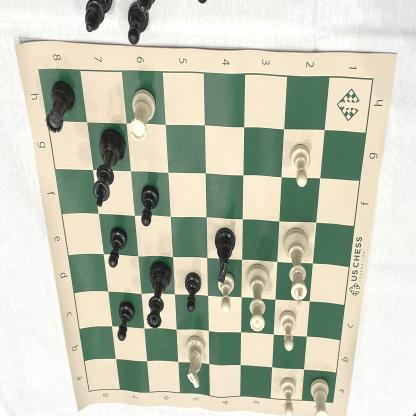black-king: (90, 126, 126, 208)
black-knight: (212, 225, 238, 282)
black-pawn: (106, 226, 129, 270), (139, 184, 160, 229), (182, 270, 203, 314), (116, 300, 135, 343)
black-queen: (144, 258, 173, 332)
black-rook: (46, 80, 74, 138)
white-king: (282, 228, 312, 309)
white-knight: (185, 333, 206, 391)
white-pawn: (290, 141, 314, 188), (216, 272, 237, 314), (278, 309, 298, 353), (279, 377, 298, 416)
white-queen: (243, 262, 272, 333)
white-rook: (130, 87, 157, 145), (307, 375, 332, 416)
